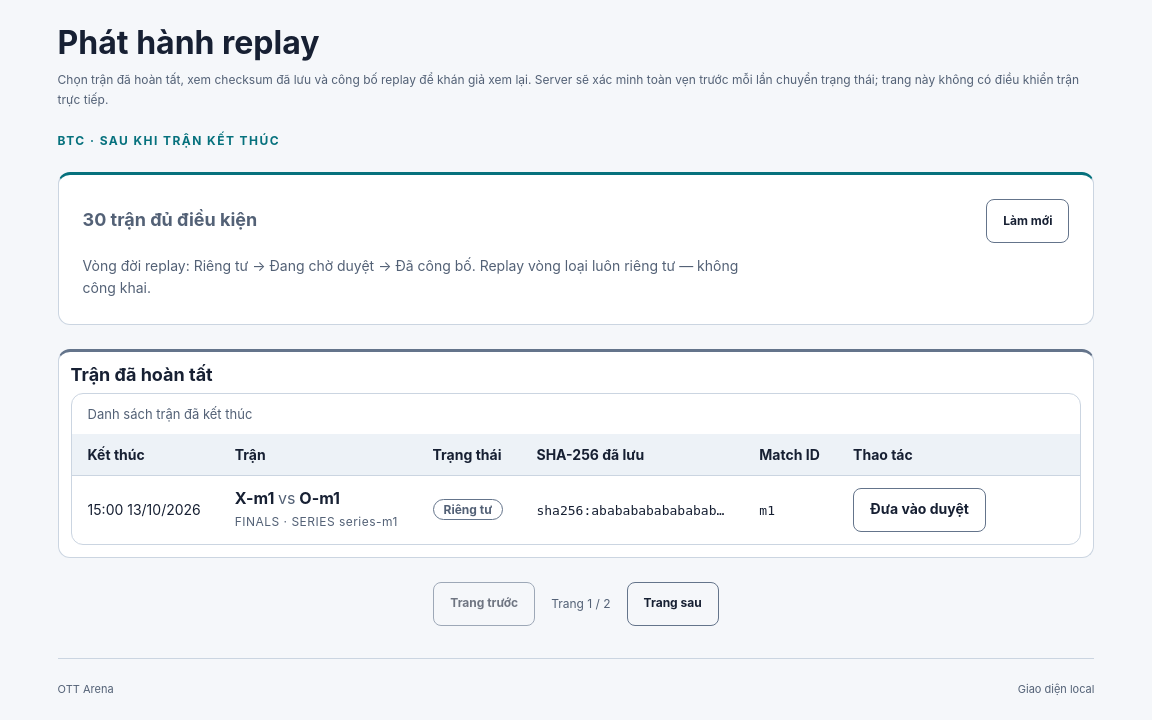
it: replay admin UI: states › paginates with disabled bounds
The image size is (1152, 720).
(page scrolled)
Expected: the button "Trang trước" is disabled, [433,582,535,626]
Click the button "Trang sau". click: (673, 604)
box: [627,582,719,626]
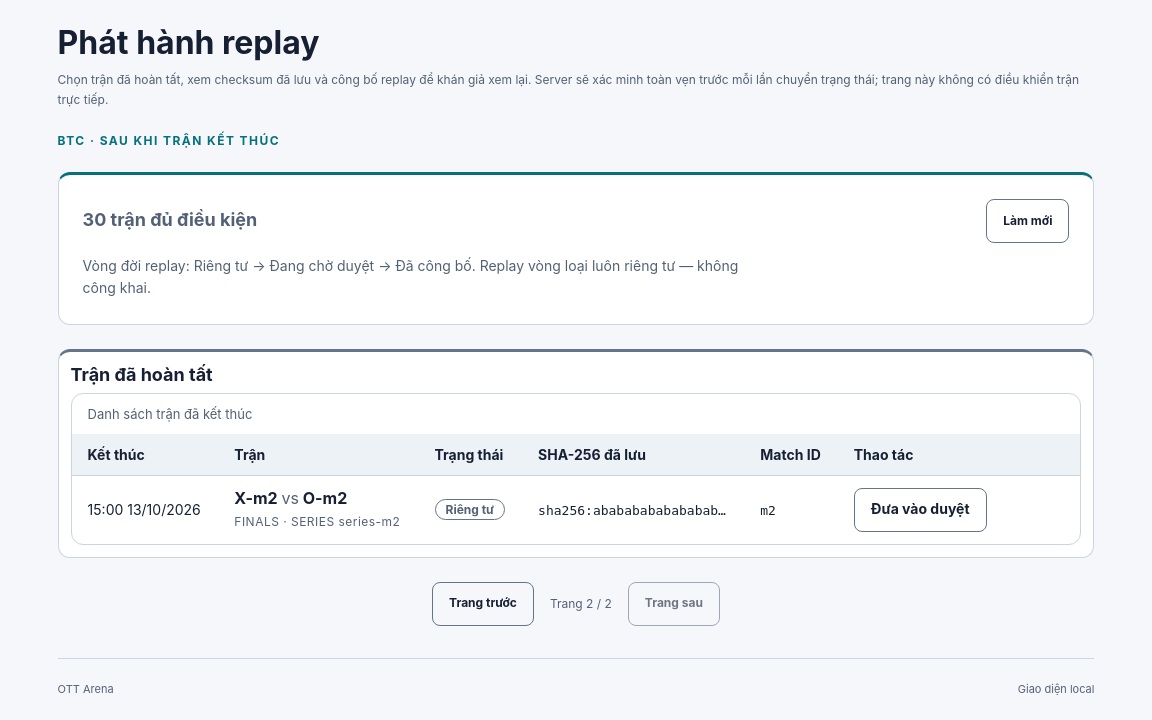
Expected: the button "Trang sau" is disabled, [628,582,720,626]
